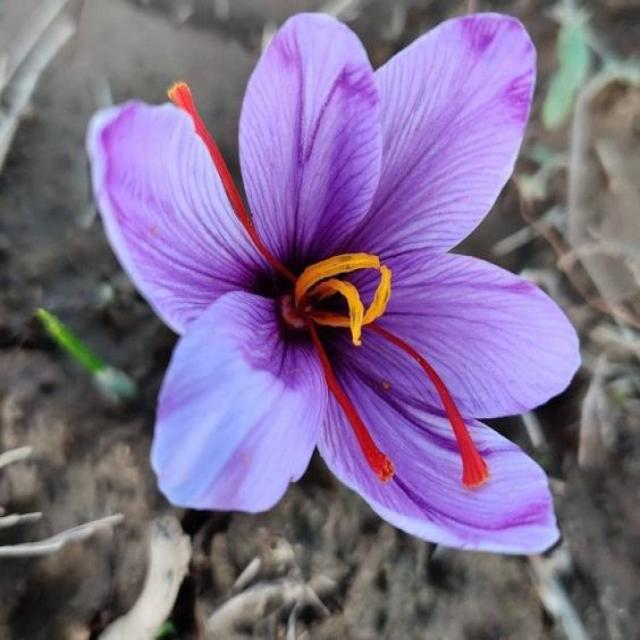Flower: (87, 14, 578, 554)
stigma: (386, 316, 499, 490), (169, 72, 281, 246), (306, 338, 394, 496)
